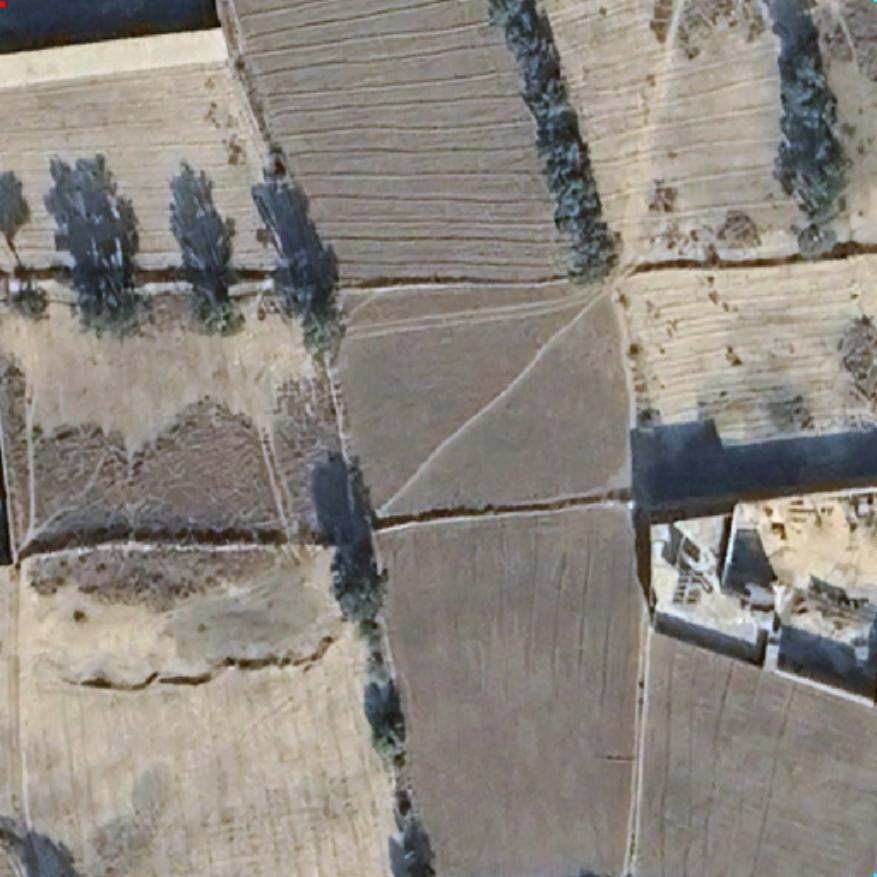Solarpanel: (670, 566, 705, 611)
